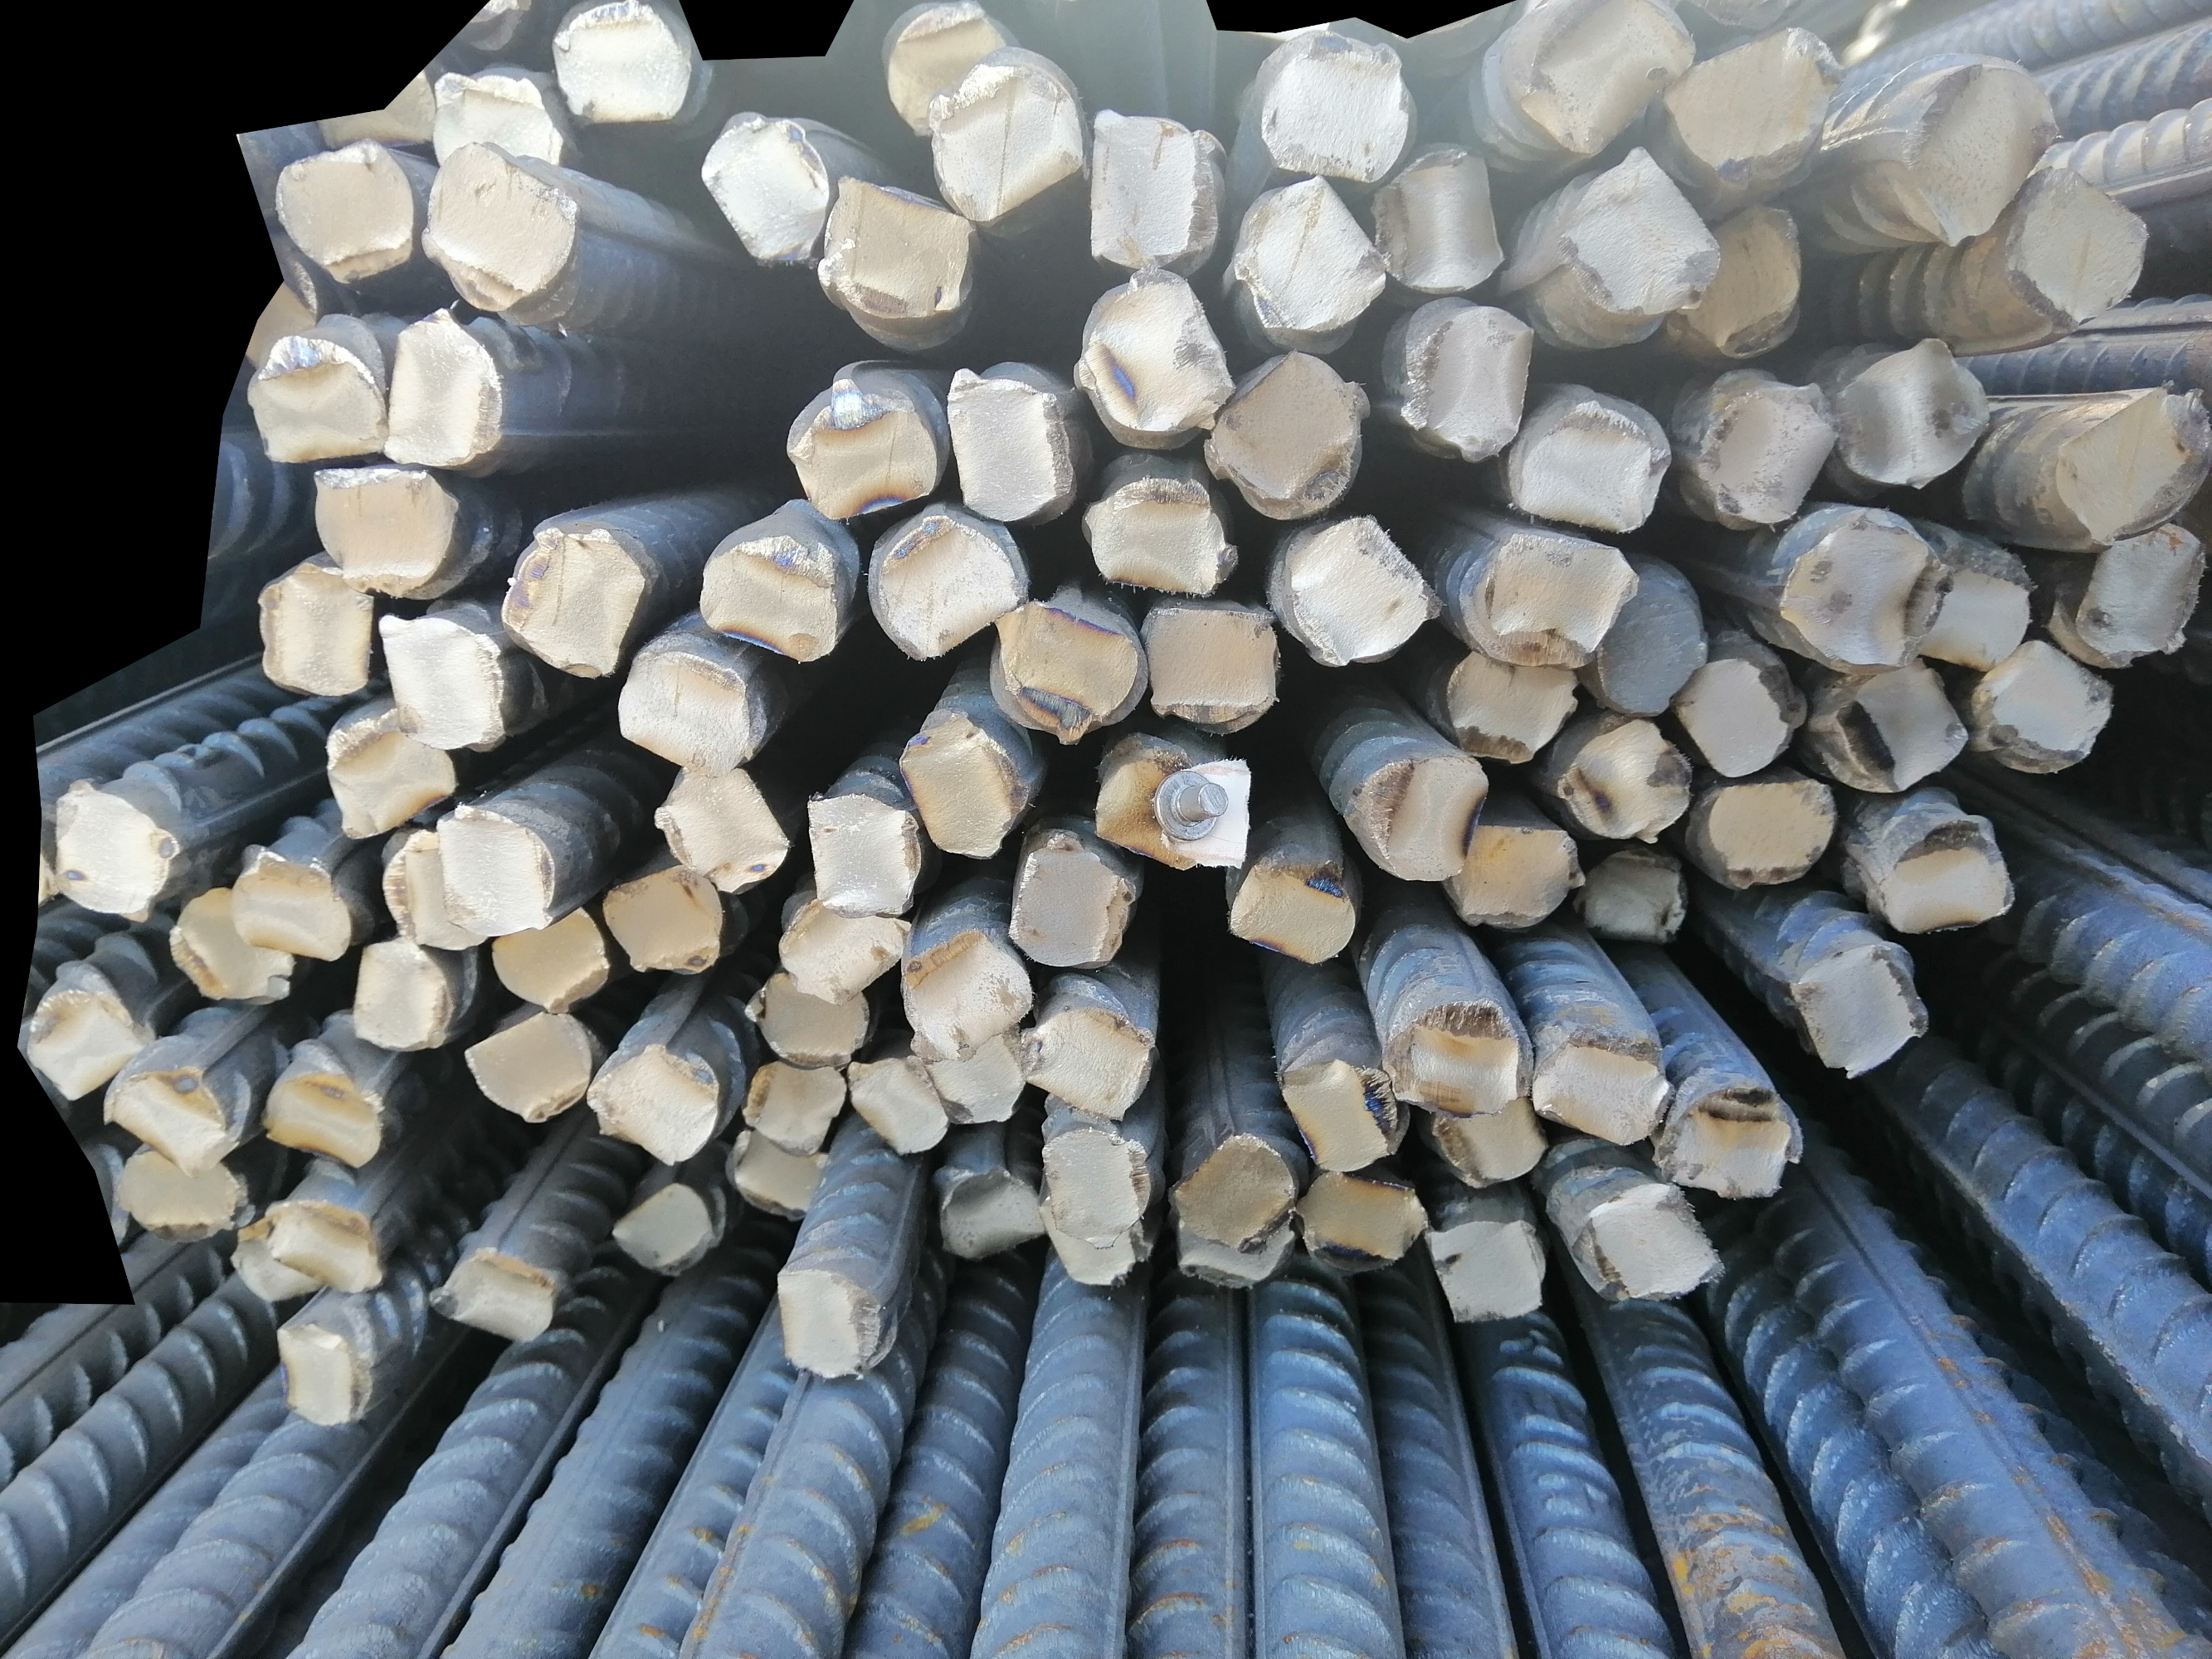rebar: (1896, 52, 2069, 251), (1492, 2, 1708, 159), (1537, 145, 1722, 328), (1764, 500, 1956, 676), (1666, 16, 1851, 190), (1203, 350, 1374, 525), (415, 141, 577, 321), (1074, 267, 1236, 446), (929, 49, 1091, 221), (1227, 176, 1393, 343), (812, 174, 981, 335), (1832, 335, 2005, 491), (1248, 26, 1417, 185), (2053, 380, 2212, 545), (873, 500, 1030, 666), (1276, 514, 1447, 664), (1778, 934, 1944, 1087), (1497, 396, 1672, 537), (2005, 160, 2149, 329), (1468, 525, 1637, 667), (992, 591, 1143, 746), (1694, 376, 1841, 537), (697, 110, 840, 270), (1673, 197, 1813, 361), (1403, 298, 1539, 465), (499, 519, 643, 676), (305, 462, 464, 605), (788, 376, 945, 519), (1335, 742, 1490, 885), (275, 132, 415, 291), (371, 305, 507, 467), (899, 702, 1035, 864), (1081, 108, 1215, 272), (615, 633, 765, 777), (368, 599, 507, 755), (943, 361, 1072, 526), (1006, 814, 1142, 971), (1811, 662, 1971, 795), (1867, 810, 2022, 945), (701, 530, 847, 671), (2071, 518, 2212, 664), (1374, 139, 1508, 293), (1079, 467, 1236, 596), (1137, 596, 1285, 732), (1910, 523, 2036, 683), (1672, 638, 1813, 777), (894, 918, 1041, 1053), (1977, 640, 2116, 779), (1571, 1185, 1727, 1309), (248, 329, 387, 467), (1590, 565, 1713, 720), (655, 756, 790, 899), (1658, 1072, 1802, 1204), (547, 0, 694, 129), (251, 552, 378, 701), (1382, 995, 1536, 1115), (51, 777, 178, 922), (1555, 713, 1694, 842), (1014, 999, 1159, 1122), (1157, 1129, 1304, 1251), (1530, 1028, 1677, 1150), (321, 701, 450, 838), (1224, 843, 1361, 972), (425, 64, 570, 186), (1272, 1047, 1407, 1176), (885, 2, 1011, 138), (431, 800, 554, 938), (584, 1040, 722, 1164), (1089, 742, 1218, 873), (99, 1054, 234, 1180), (802, 788, 927, 920), (1442, 645, 1578, 767), (464, 1004, 594, 1129), (1035, 1119, 1161, 1249), (254, 1061, 392, 1180), (1438, 814, 1581, 927), (228, 842, 357, 965), (171, 885, 295, 1012), (26, 983, 157, 1101), (903, 1012, 1035, 1129), (596, 863, 725, 981), (1698, 777, 1839, 885), (485, 903, 615, 1018), (779, 890, 912, 1002), (1292, 1169, 1429, 1276), (1424, 1220, 1551, 1333), (113, 1145, 254, 1246), (375, 826, 485, 955), (429, 1241, 565, 1344), (774, 1258, 887, 1380), (746, 967, 872, 1072), (256, 1194, 387, 1293), (1034, 1202, 1159, 1305), (837, 1051, 950, 1161), (354, 934, 458, 1053), (268, 1312, 375, 1427), (1428, 1094, 1551, 1192), (739, 1054, 852, 1157), (931, 1162, 1046, 1263), (607, 1182, 727, 1277), (723, 1121, 831, 1222), (1578, 847, 1687, 946), (1173, 1216, 1302, 1297), (220, 1213, 321, 1307)
